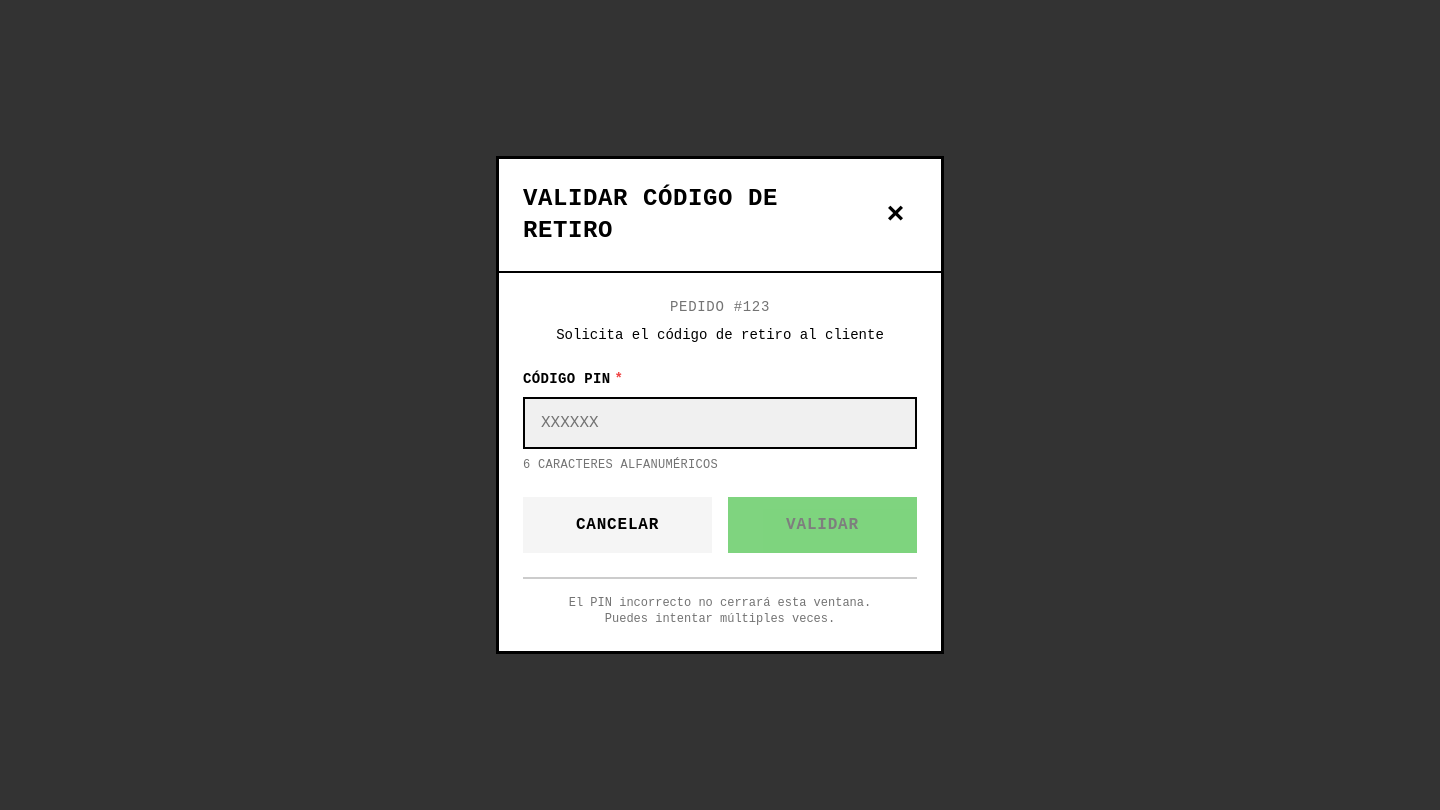
Scenario: PinValidationModal - Critical Flow › accepts only alphanumeric characters in PIN input
The width and height of the screenshot is (1440, 810).
Note: Try to enter special characters - should be ignored
Type "ABC@#$123" into the field with placeholder "XXXXXX" at (720, 423), box [523,397,917,449]
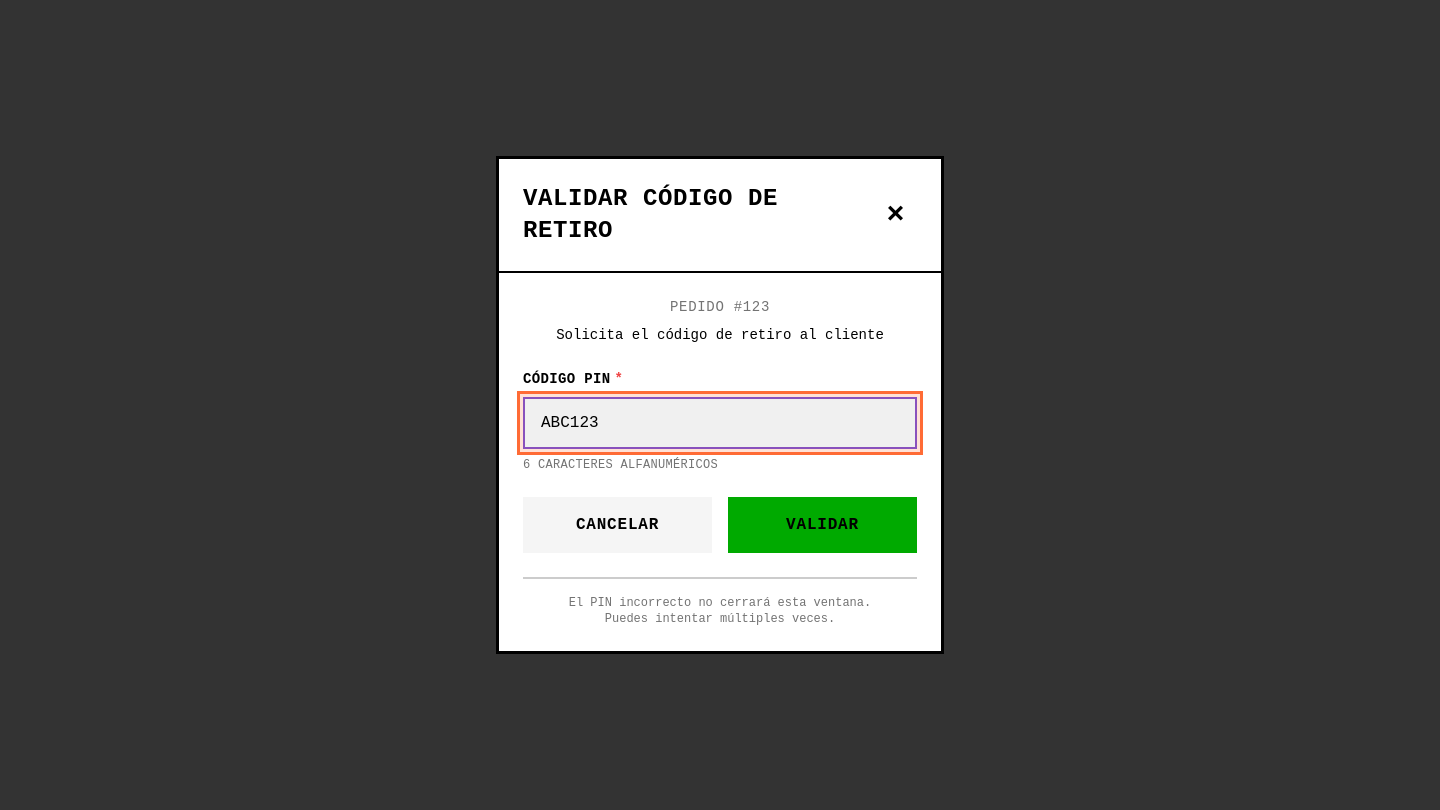
Expected: the field with placeholder "XXXXXX" holds "ABC123", [523,397,917,449]
